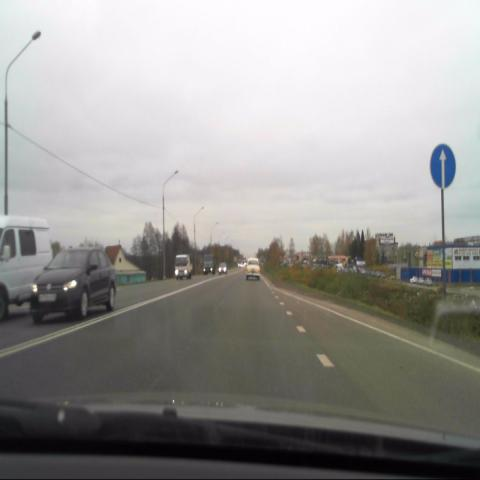4_1_1: (428, 141, 456, 189)
